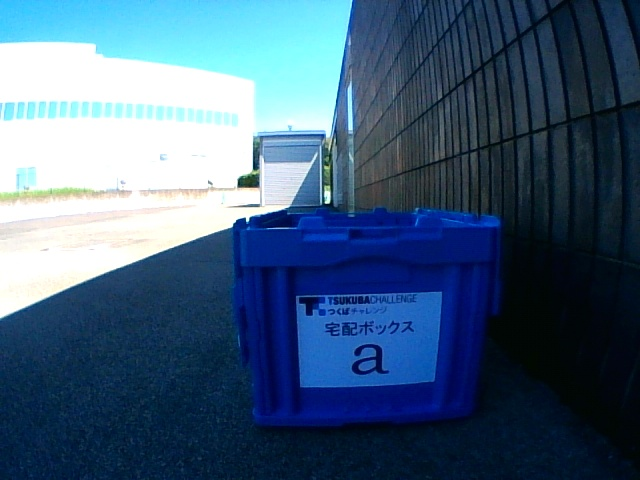blue_box: (233, 206, 499, 426)
tag_a: (307, 296, 432, 380)
